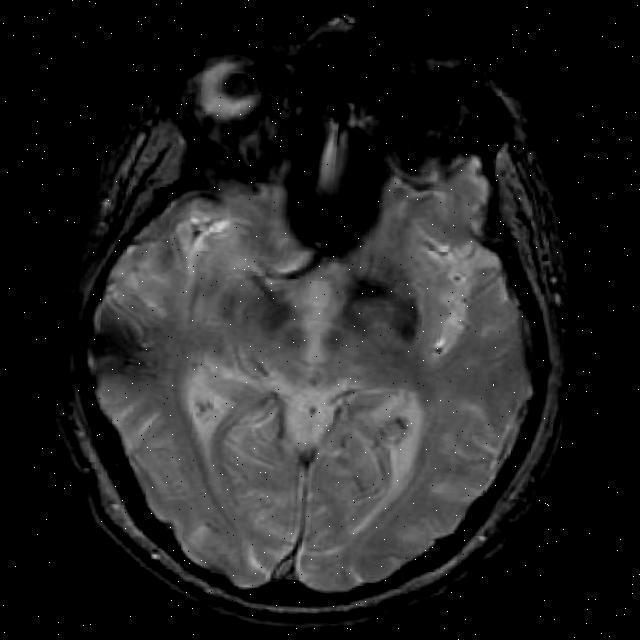EMCI: (99, 278, 203, 444)
MCI: (405, 218, 492, 329)
